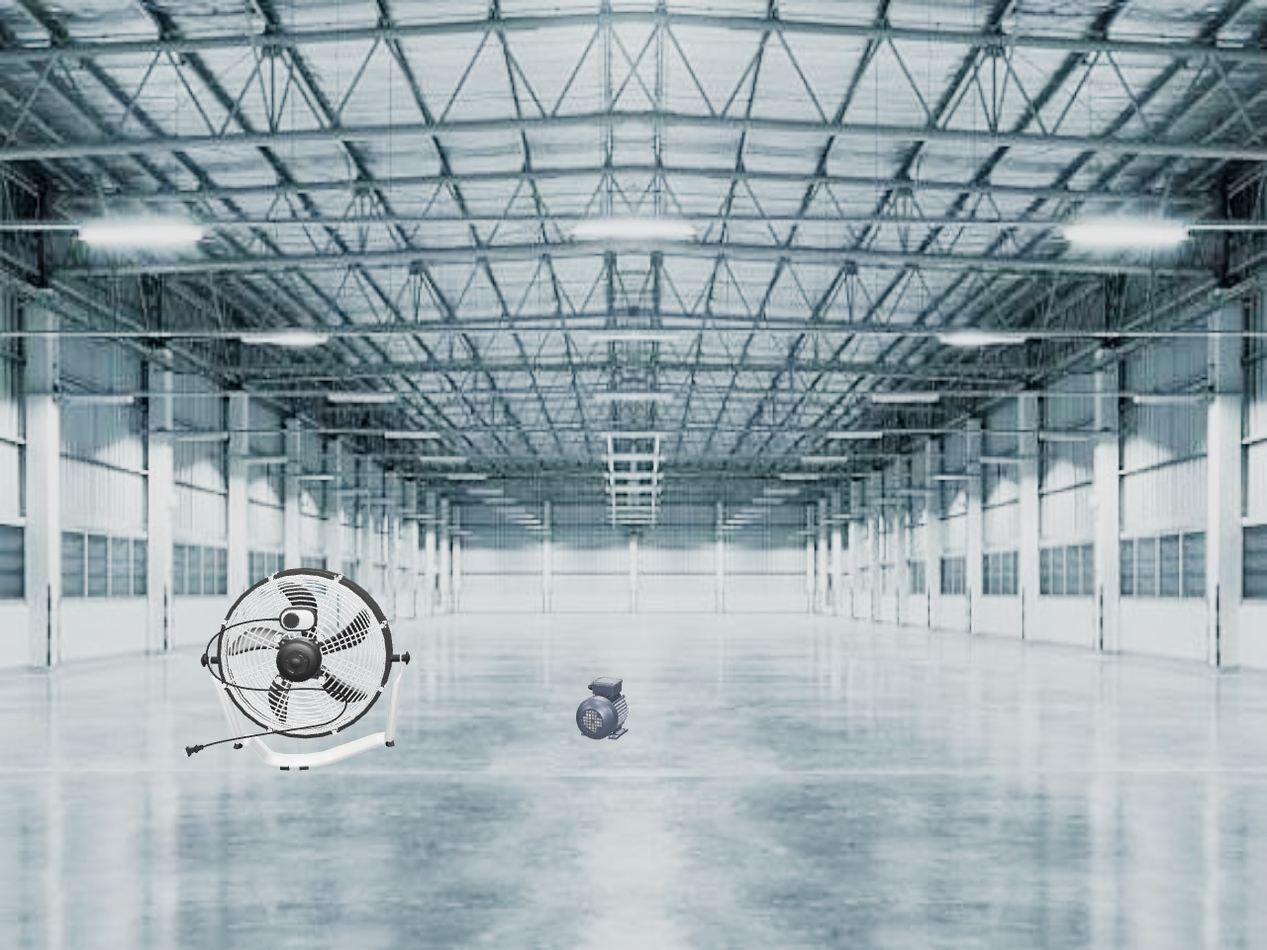ElectroMotor: (576, 676, 629, 740)
FanSanati: (182, 568, 410, 770)
